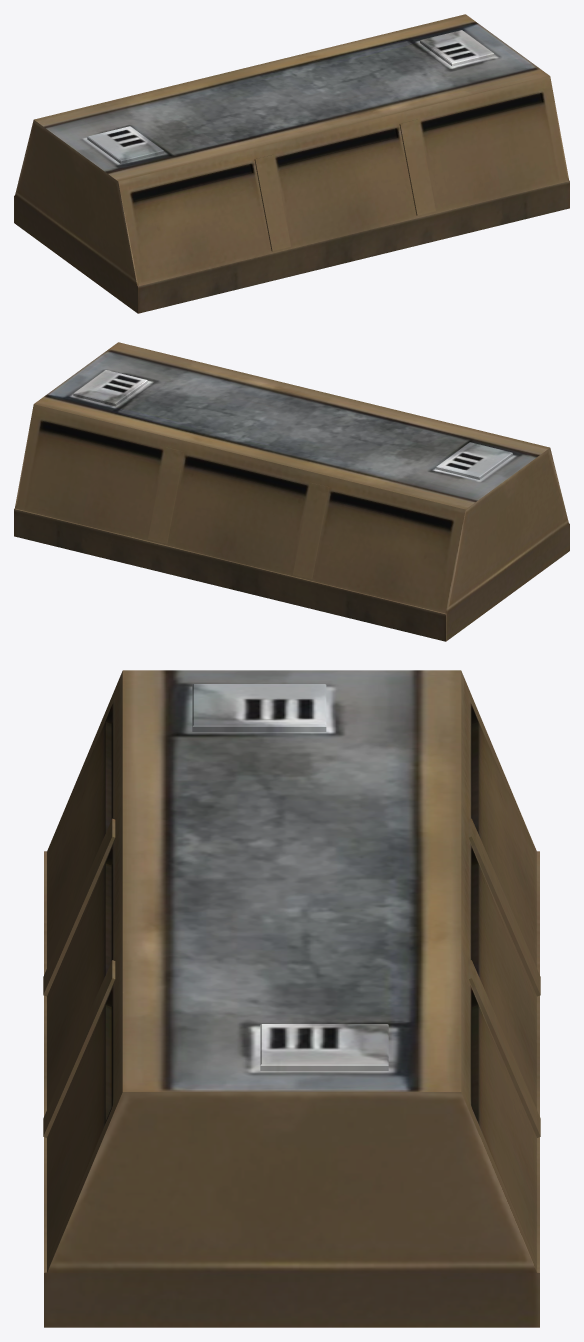
File: hpg_walkway_cad.glb
3 renders of one model, top to bottom at view 1: azimuth 30°, elevation 25°; view 2: azimuth 150°, elevation 25°; view 3: azimuth 270°, elevation 25°, orthographic. The views are drawn at different scales.
Parts seen in each view (by area): view 1: HPG_Walkway; view 2: HPG_Walkway; view 3: HPG_Walkway.
Part boxes in pixels (bbox=[...]): HPG_Walkway: bbox=[14, 14, 569, 313]; HPG_Walkway: bbox=[14, 342, 569, 641]; HPG_Walkway: bbox=[43, 670, 540, 1327].
Size of the model in its own units: 25.59 by 6.85 by 12.76.
Materials: 1 (1 with a texture image).
